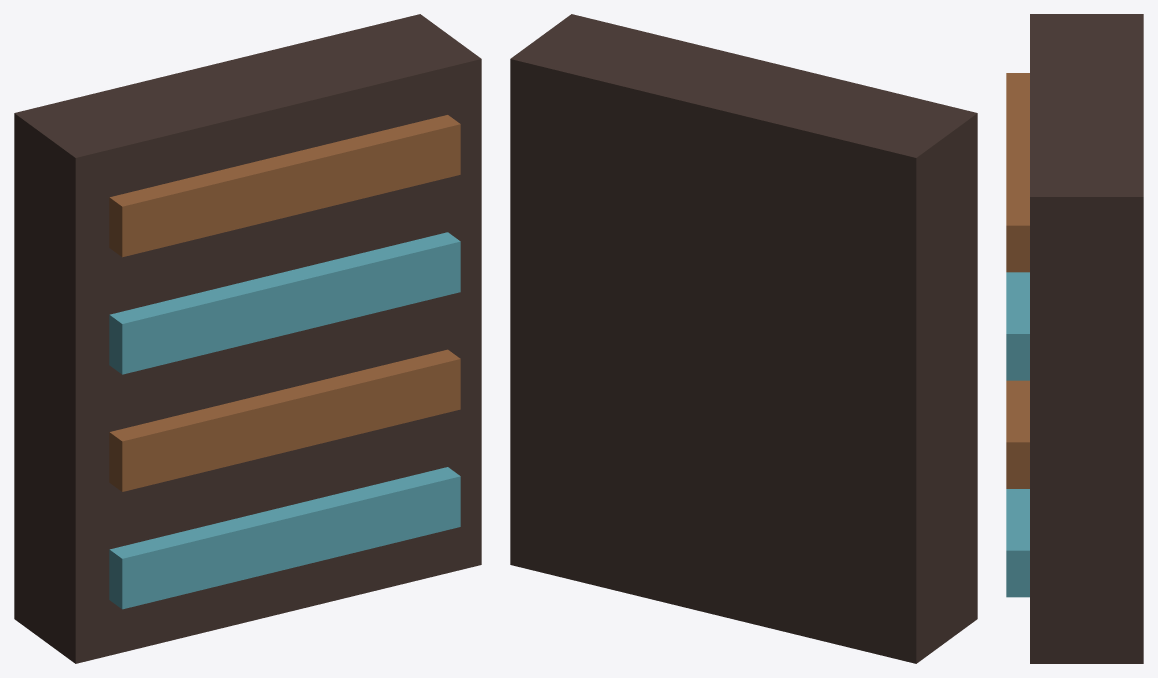
File: lesson_board.glb
3 views of the same model, side by side, from view 1: azimuth 30°, elevation 25°; view 2: azimuth 150°, elevation 25°; view 3: azimuth 270°, elevation 25° (orthographic). The views are drawn at different scales.
Visible parts, largest first — view 1: board_body, board_row_0, board_row_2, board_row_1, board_row_3; view 2: board_body; view 3: board_body, board_row_3, board_row_0, board_row_1, board_row_2.
Boxes of the visible parts, x1,y1,x2,y2 form: board_body: (14, 14, 481, 663); board_row_0: (109, 467, 460, 609); board_row_2: (109, 232, 460, 374); board_row_1: (109, 349, 460, 491); board_row_3: (109, 115, 460, 257); board_body: (510, 14, 977, 663); board_body: (1030, 14, 1143, 663); board_row_3: (1006, 73, 1029, 272); board_row_0: (1006, 489, 1029, 597); board_row_1: (1006, 380, 1029, 488); board_row_2: (1006, 272, 1029, 380).
Size of what is drawn, in the model's own units: 2.1 by 2.5 by 0.665.
